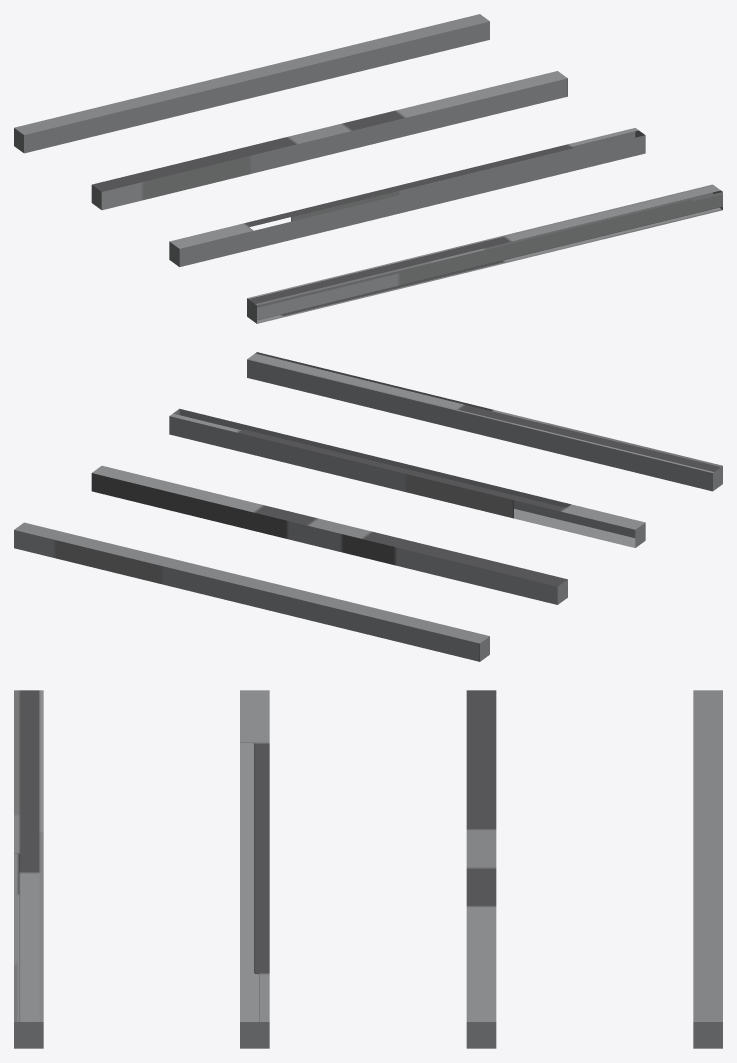
The picture shows the model from 3 angles, top to bottom: view 1: azimuth 30°, elevation 25°; view 2: azimuth 150°, elevation 25°; view 3: azimuth 270°, elevation 25°; orthographic projection. The views are drawn at different scales.
Size of the model in its own units: 1.06 by 0.04 by 0.96.
